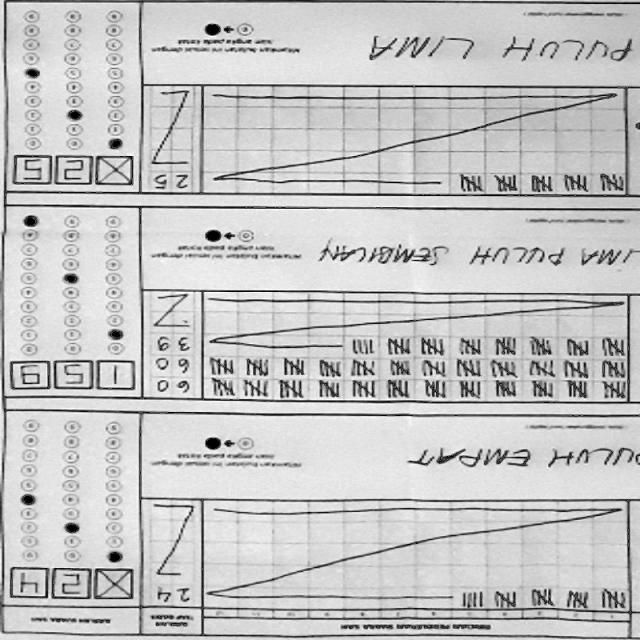Suara: (14, 568, 140, 607), (10, 155, 136, 190), (11, 362, 137, 394)
